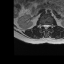CCS_normal: (45, 22, 46, 30)
LFS_normal: (49, 22, 51, 28)
LLS_normal: (46, 22, 49, 29)
RFS_normal: (41, 22, 43, 28)
RLS_normal: (43, 22, 45, 29)
